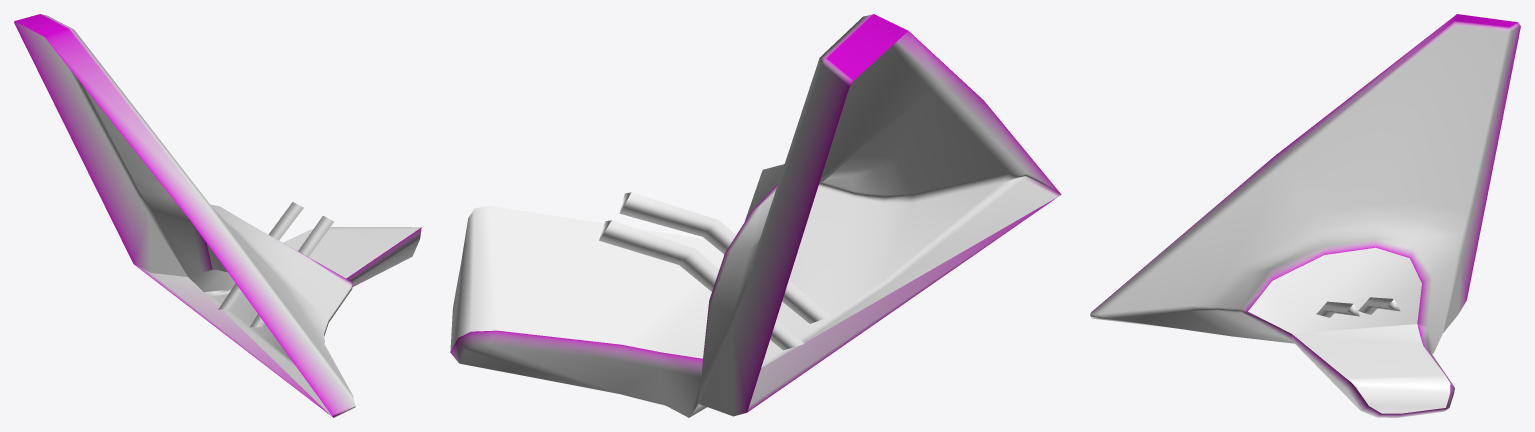
File: Car_Nissan_SkylineGTRVspecR34_1999_MirrorBaseL_SetA.fbx
3 views of the same model, side by side, from view 1: azimuth 30°, elevation 25°; view 2: azimuth 150°, elevation 25°; view 3: azimuth 270°, elevation 25° (orthographic). The views are drawn at different scales.
Parts seen in each view (by area): view 1: MirrorBaseL 5; view 2: MirrorBaseL 5; view 3: MirrorBaseL 5.
Part boxes in pixels (x1,y1,x2,y2): MirrorBaseL 5: [14, 14, 421, 417]; MirrorBaseL 5: [450, 14, 1061, 417]; MirrorBaseL 5: [1090, 14, 1520, 417].
Size of the model in its own units: 0.1538 by 0.1314 by 0.1857.
